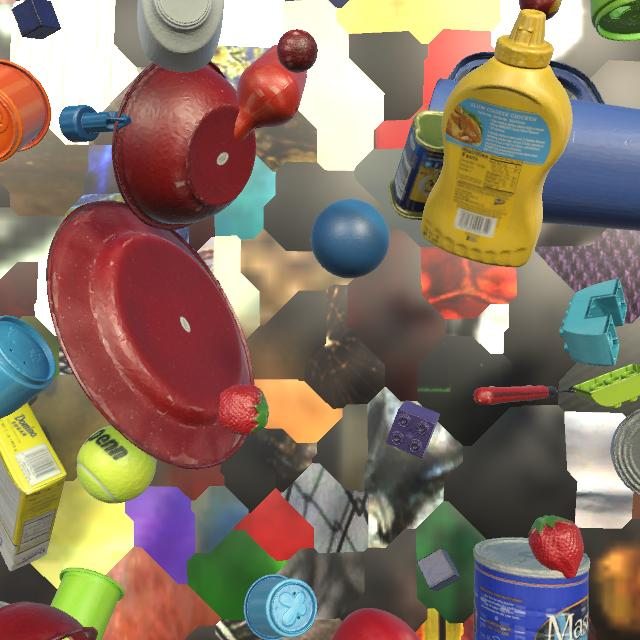ycb_002_master_chef_can: (473, 537, 590, 640), (0, 601, 9, 608)
ycb_004_sugar_box: (0, 402, 67, 571)
ycb_006_mustard_bottle: (421, 9, 573, 267)
ycb_007_tuna_fish_can: (610, 409, 640, 496)
ycb_010_potted_meat_can: (388, 110, 444, 220)
ycb_012_strawberry: (528, 515, 584, 579), (217, 384, 269, 435)
ycb_013_apple: (332, 608, 420, 640)
